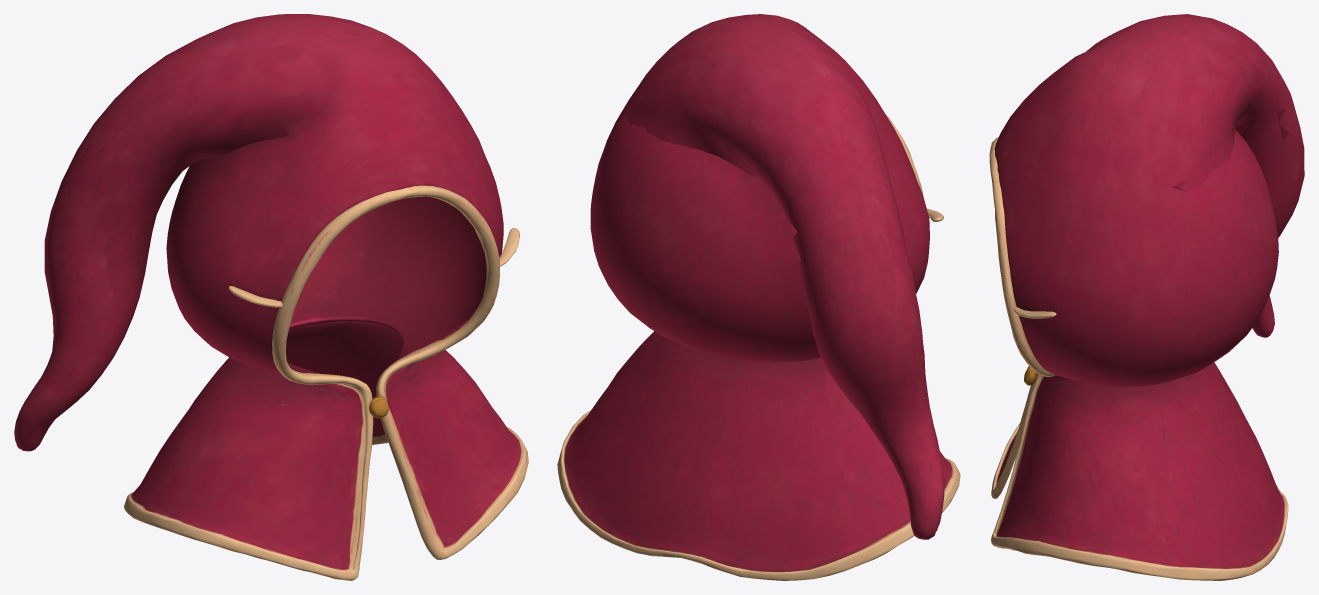
Rendered from Meshy_AI_Crimson_Hooded_Cloak_1111135241_texture.glb.
The picture shows the model from 3 angles, left to right: view 1: azimuth 30°, elevation 25°; view 2: azimuth 150°, elevation 25°; view 3: azimuth 270°, elevation 25°; orthographic projection. The views are drawn at different scales.
Parts seen in each view (by area): view 1: geometry_0; view 2: geometry_0; view 3: geometry_0.
Part boxes in pixels (box(x1,y1,x2,y2)): geometry_0: box(14, 14, 528, 580); geometry_0: box(557, 14, 960, 580); geometry_0: box(989, 14, 1304, 580).
Bounding box in the file's own units: 0.9181 × 1 × 0.5948.
1 material, 1 textured.
